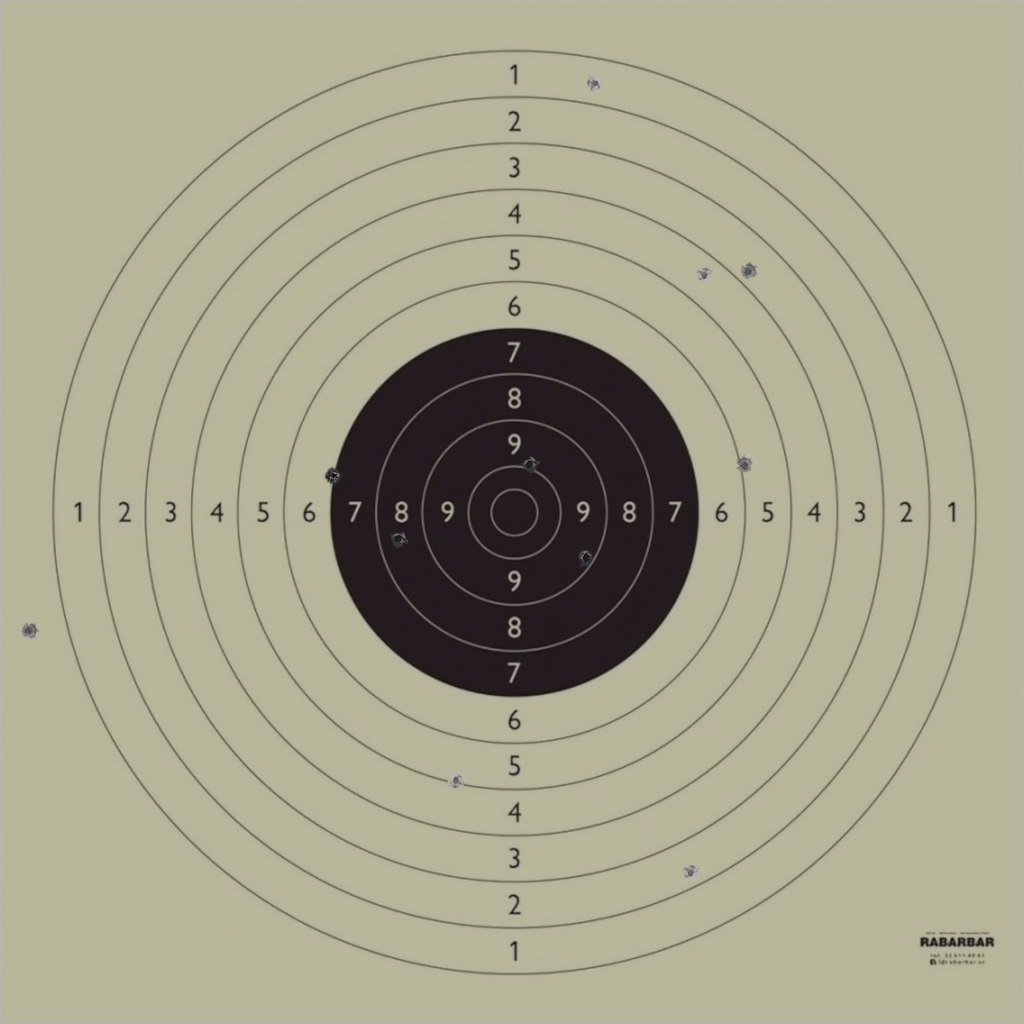0 punktow: (20, 621, 38, 640)
1 punkt: (586, 74, 604, 93)
10 punktow: (520, 455, 539, 474)
2 punkty: (681, 864, 700, 882)
3 punkty: (739, 262, 758, 281)
4 punkty: (695, 266, 714, 285)
5 punktow: (447, 771, 465, 790)
6 punktow: (735, 456, 754, 474)
7 punktow: (325, 466, 343, 485)
8 punktow: (389, 529, 408, 548)
9 punktow: (577, 549, 595, 567)
